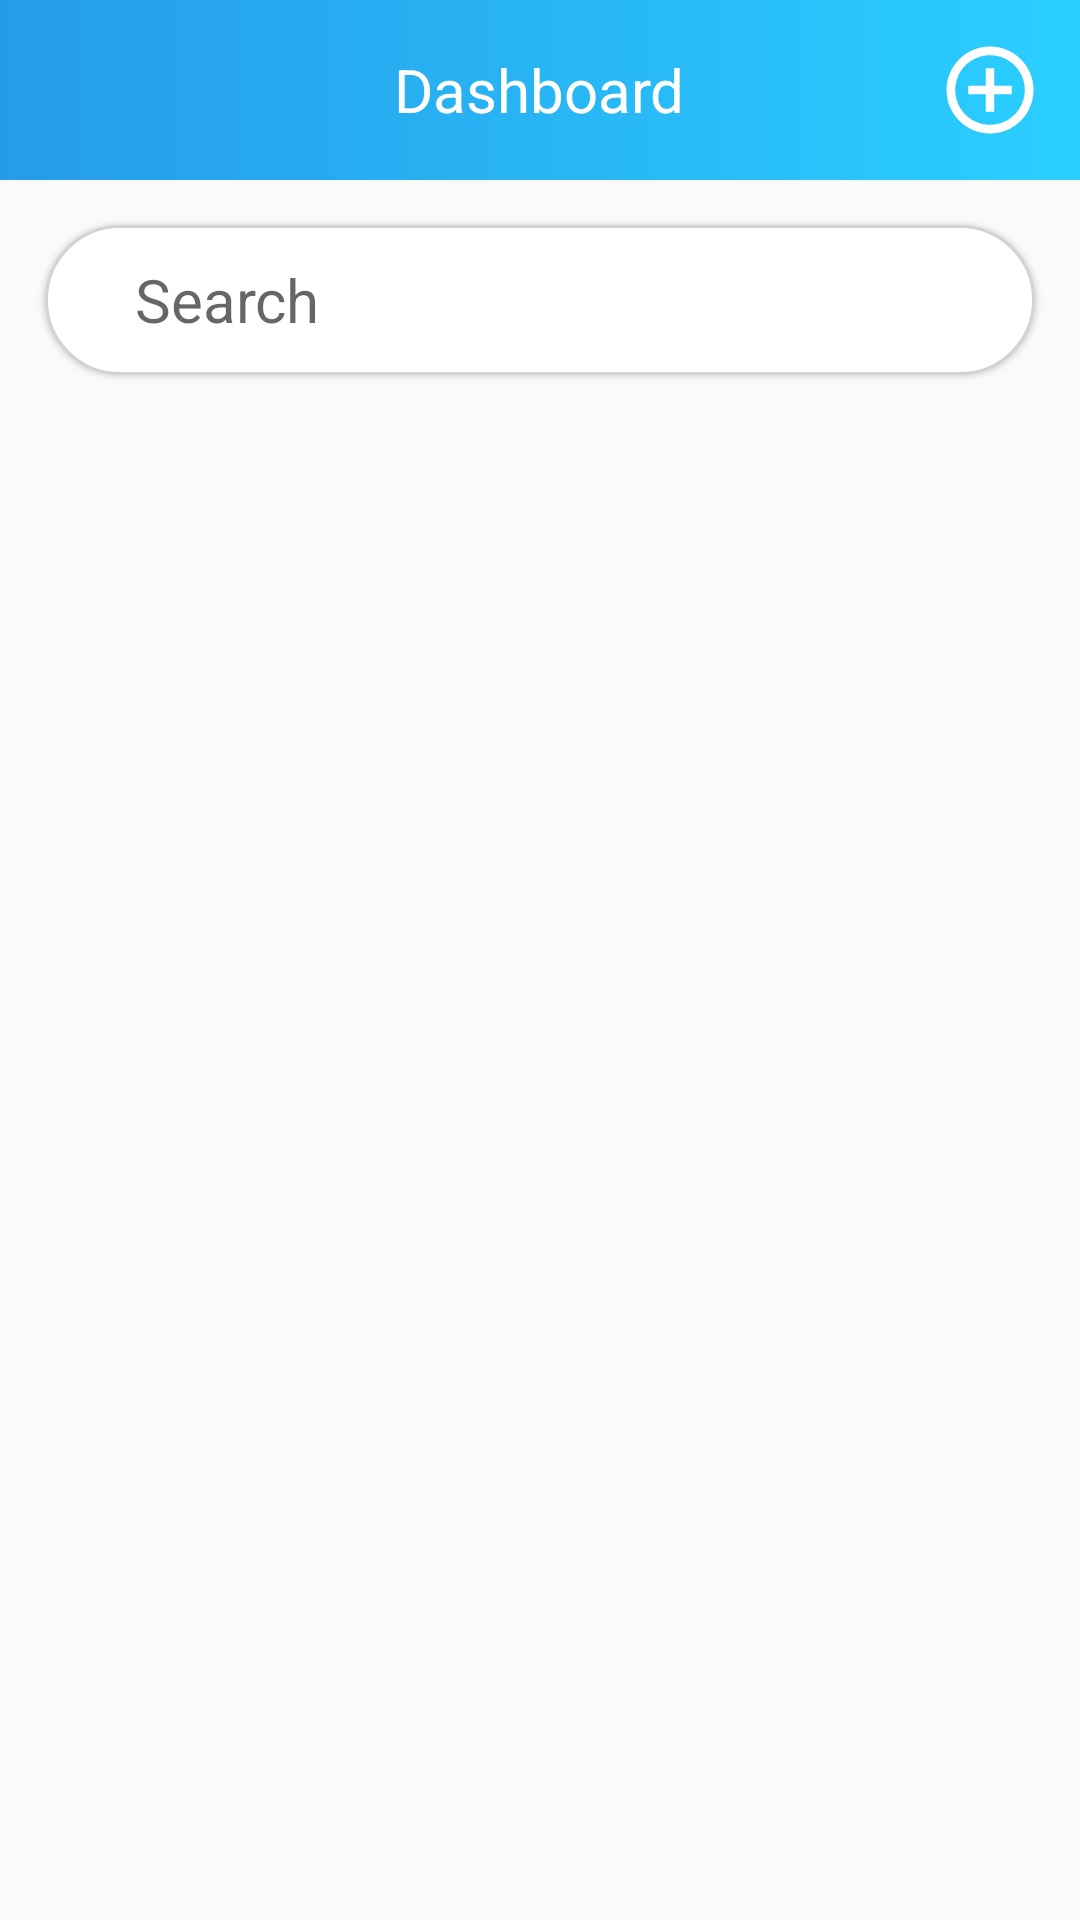

Icon click points for this 1080*1920 phone screenshot, format point (x, y):
add product: point (990, 90)
